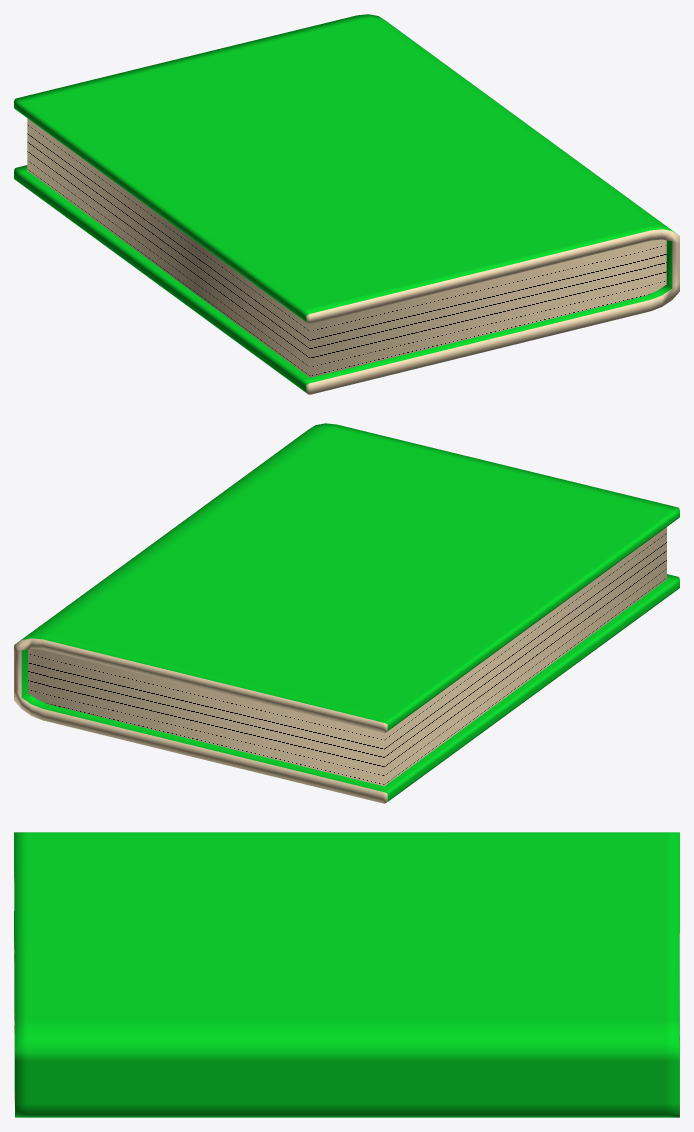
Rendered from book-green.fbx.
The picture shows the model from 3 angles, top to bottom: view 1: azimuth 30°, elevation 25°; view 2: azimuth 150°, elevation 25°; view 3: azimuth 270°, elevation 25°; orthographic projection. The views are drawn at different scales.
Parts seen in each view (by area): view 1: book_green; view 2: book_green; view 3: book_green.
Part boxes in pixels (<box>): book_green: <box>14,14,679,394</box>; book_green: <box>14,423,679,803</box>; book_green: <box>14,832,679,1117</box>.
Size of the model in its own units: 8.66 by 1.79 by 11.81.
Materials: 1 (1 with a texture image).
